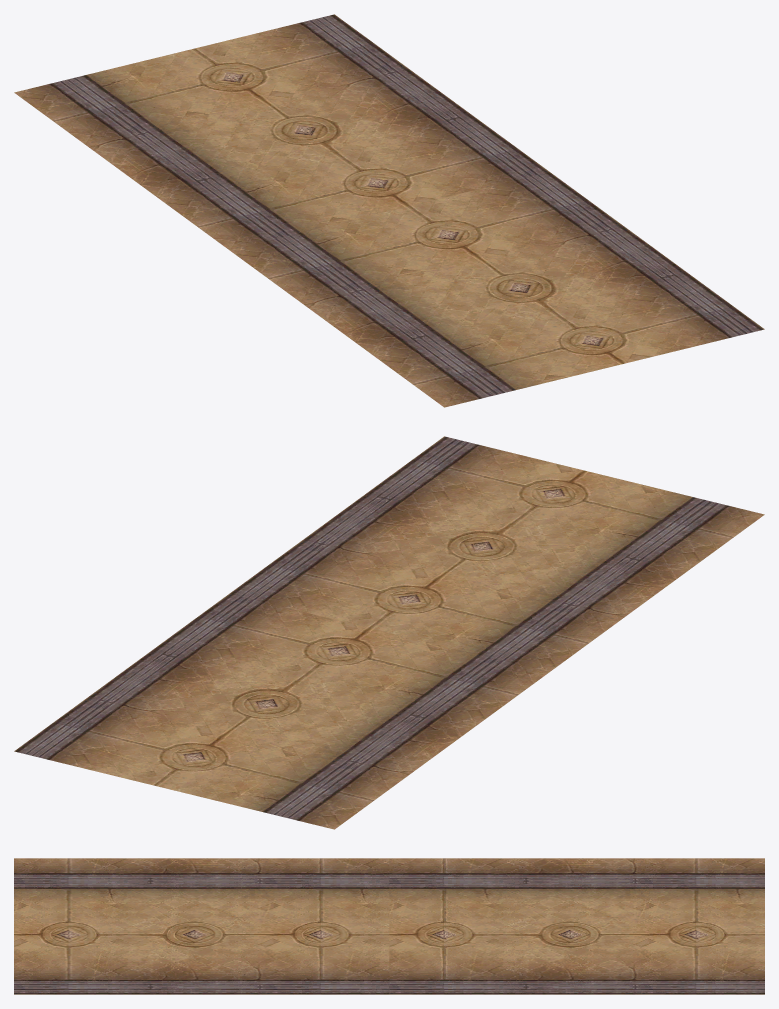
File: S_Build_City139.FBX
The picture shows the model from 3 angles, top to bottom: view 1: azimuth 30°, elevation 25°; view 2: azimuth 150°, elevation 25°; view 3: azimuth 270°, elevation 25°; orthographic projection. The views are drawn at different scales.
Visible parts, largest first — view 1: S_Build_City139; view 2: S_Build_City139; view 3: S_Build_City139.
Boxes of the visible parts, x1,y1,x2,y2 form: S_Build_City139: [14, 14, 764, 407]; S_Build_City139: [14, 436, 764, 829]; S_Build_City139: [14, 858, 764, 994].
Bounding box in the file's own units: 920 × 0.003 × 2139.
